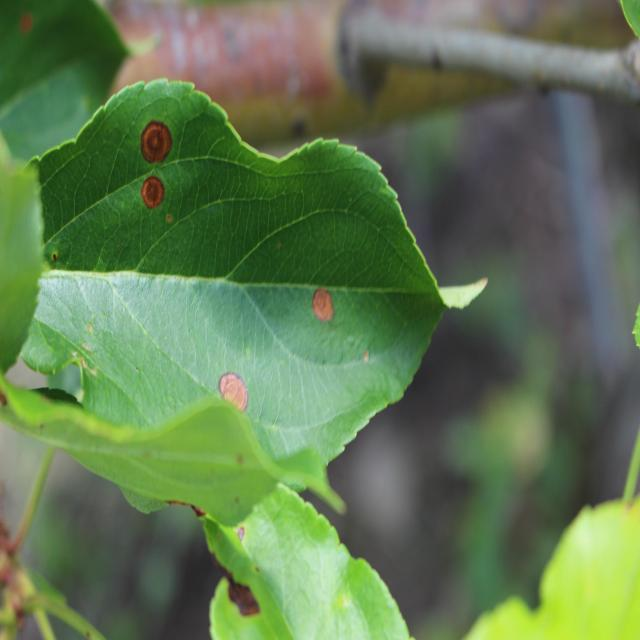rust: (18, 76, 490, 472)
